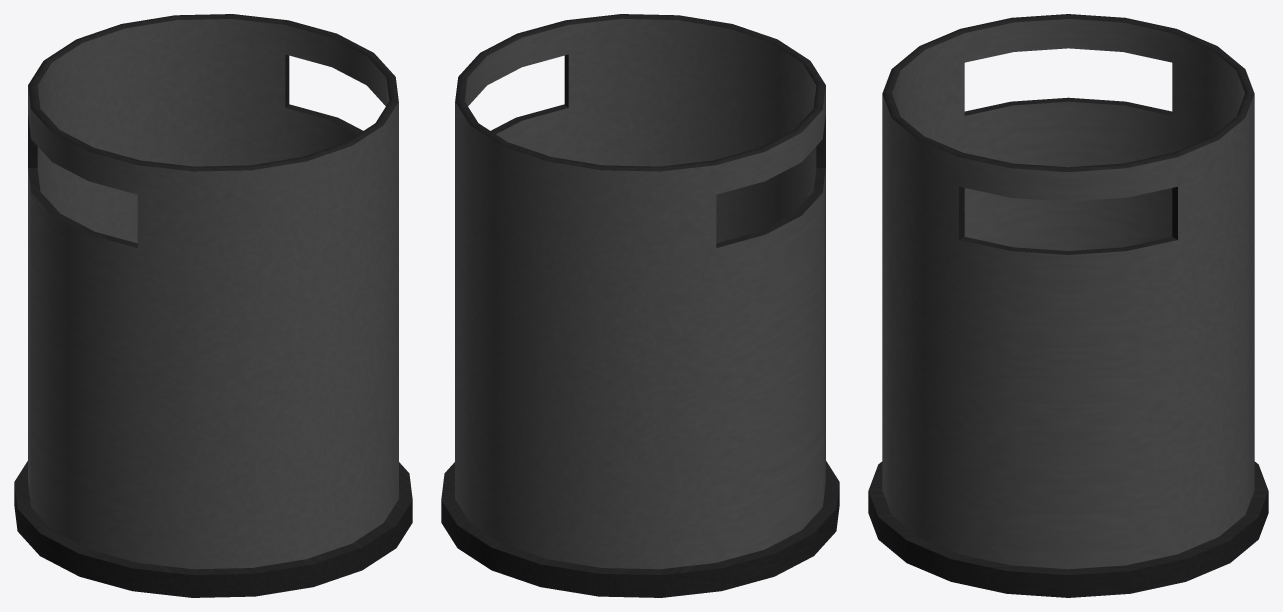
File: 3D004_Office_Bin.FBX
The picture shows the model from 3 angles, left to right: view 1: azimuth 30°, elevation 25°; view 2: azimuth 150°, elevation 25°; view 3: azimuth 270°, elevation 25°; orthographic projection.
Parts seen in each view (by area): view 1: 3D004_Office_Bin; view 2: 3D004_Office_Bin; view 3: 3D004_Office_Bin.
Part boxes in pixels (x1,y1,x2,y2): 3D004_Office_Bin: (14,14,412,597); 3D004_Office_Bin: (441,14,839,597); 3D004_Office_Bin: (868,14,1268,597).
Bounding box in the file's own units: 25.32 × 29.45 × 25.32.
